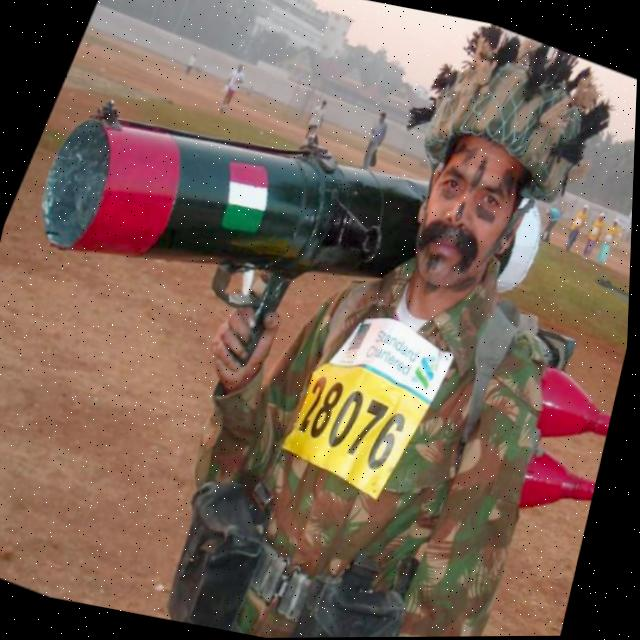rocket: (11, 33, 450, 379)
